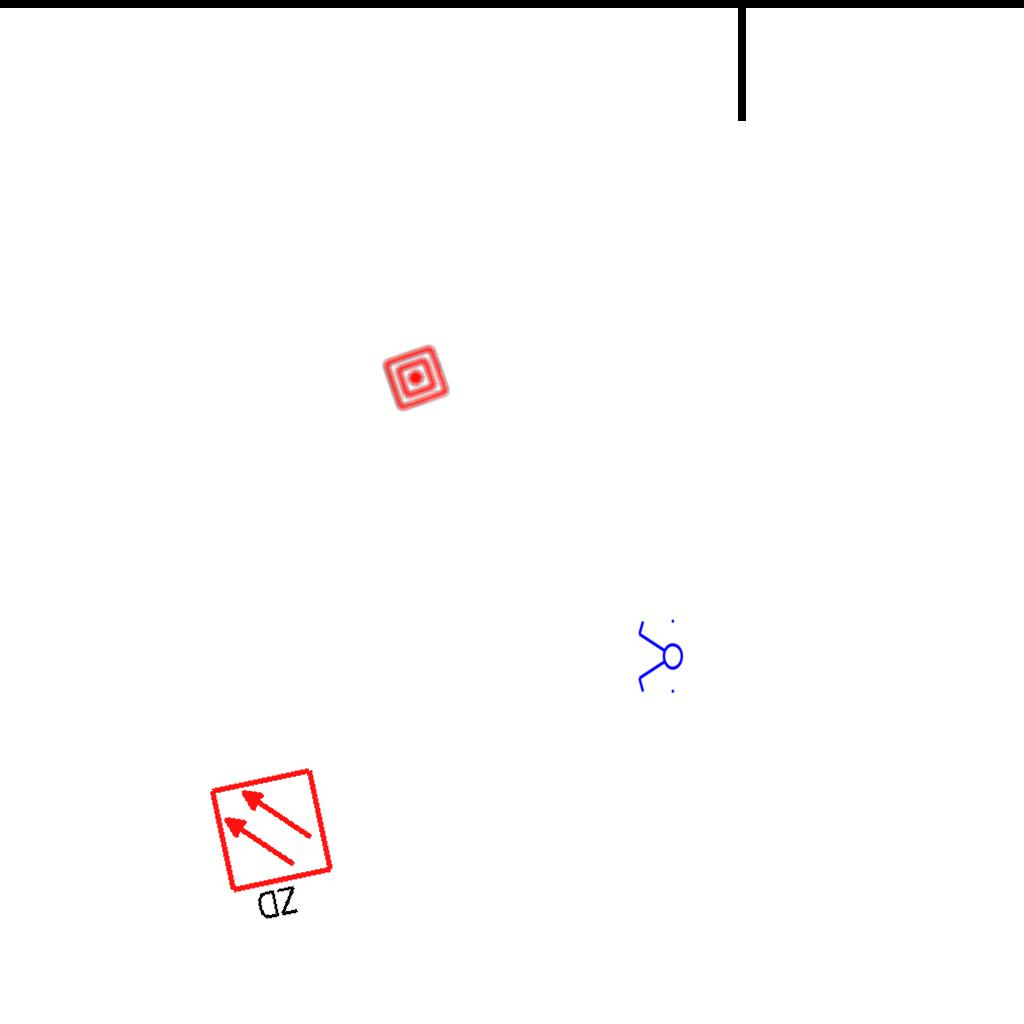NAM-Nichtautomatischer_Melder: (380, 342, 452, 414)
Serienschalter: (636, 615, 684, 699)
ZD_Melder_in_Zwischendecke_mit_Revisionsoeffnung_mind_40_x_40_cm: (205, 763, 349, 934)
